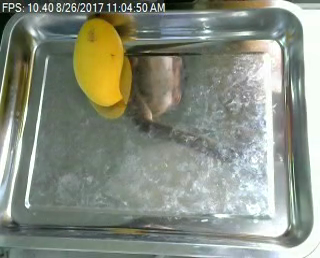Mango: (67, 13, 132, 110)
